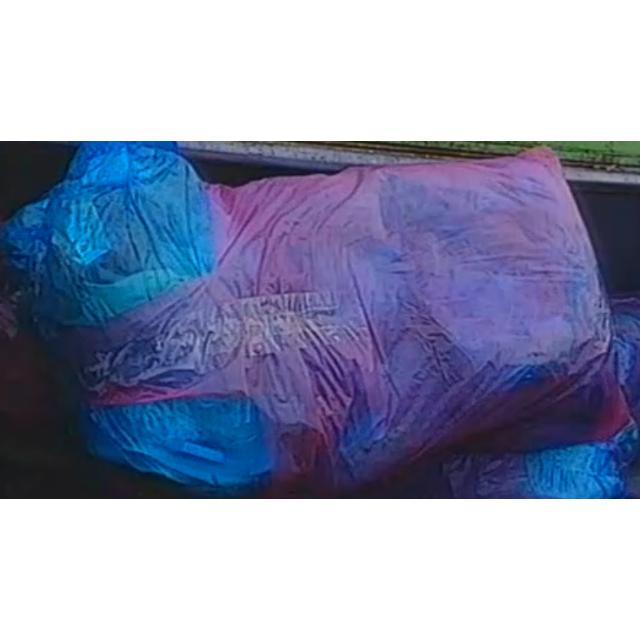other_trashbag: (2, 142, 628, 484)
